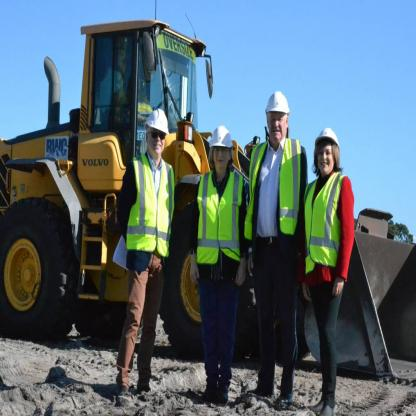person: (248, 53, 302, 412), (184, 115, 248, 403), (302, 118, 354, 413), (116, 100, 174, 359)
